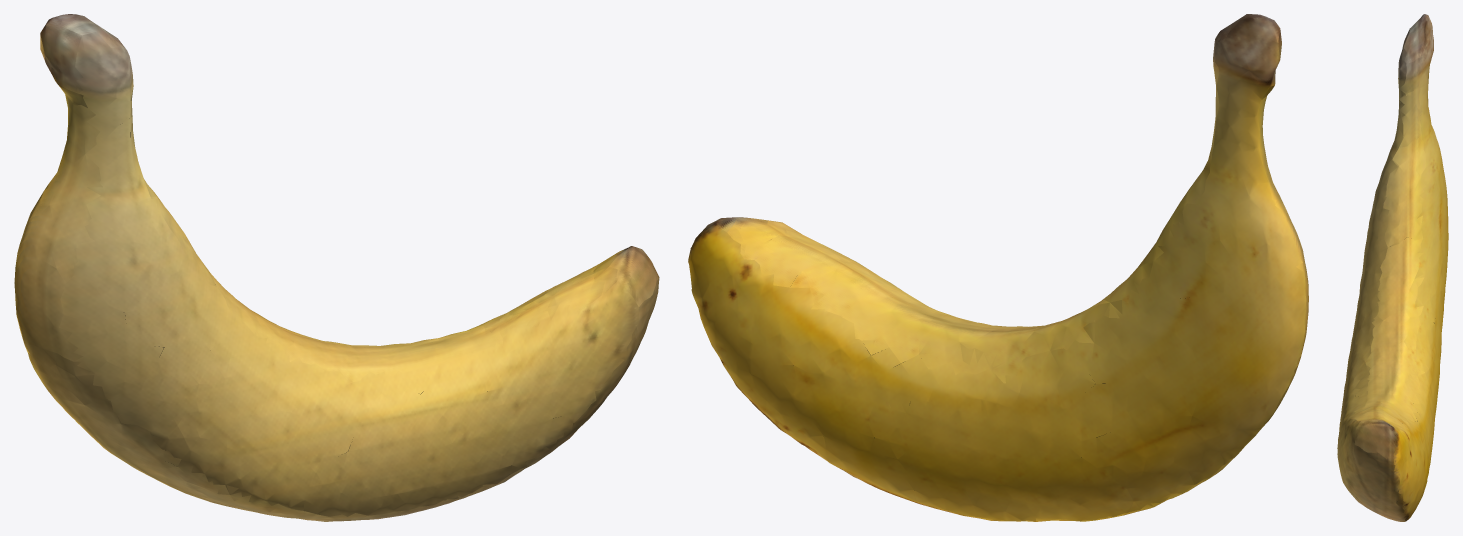
File: raw_mesh.glb
3 renders of one model, left to right at view 1: azimuth 30°, elevation 25°; view 2: azimuth 150°, elevation 25°; view 3: azimuth 270°, elevation 25°, orthographic. The views are drawn at different scales.
Parts seen in each view (by area): view 1: world; view 2: world; view 3: world.
Part boxes in pixels (bbox=[...]): world: bbox=[14, 14, 659, 521]; world: bbox=[688, 14, 1308, 521]; world: bbox=[1337, 14, 1448, 521].
Size of the model in its own units: 1 by 0.865 by 0.2324.
Materials: 1 (1 with a texture image).
